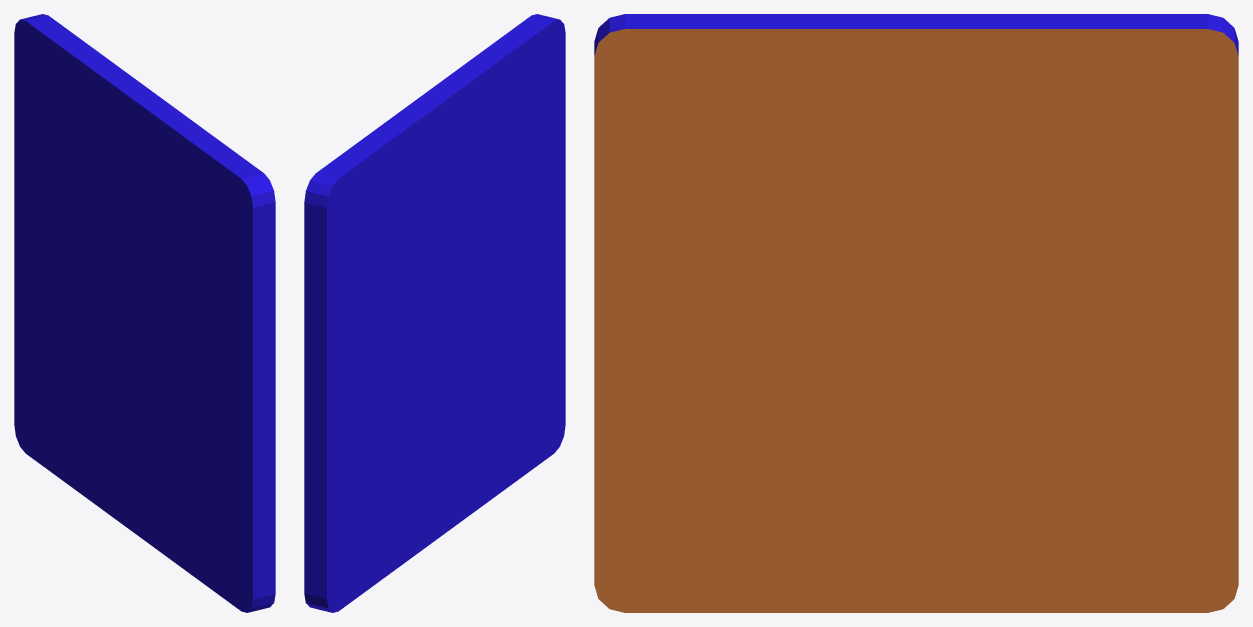
The model's file is paper.fbx.
3 views of the same model, side by side, from view 1: azimuth 30°, elevation 25°; view 2: azimuth 150°, elevation 25°; view 3: azimuth 270°, elevation 25° (orthographic). The views are drawn at different scales.
Visible parts, largest first — view 1: Cube; view 2: Cube; view 3: Cube.
Boxes of the visible parts, <box> form: Cube: <box>14,14,275,612</box>; Cube: <box>304,14,565,612</box>; Cube: <box>594,14,1238,612</box>.
Bounding box in the file's own units: 10.98 × 200 × 200.
